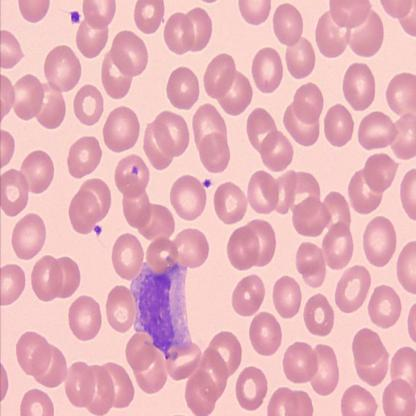Myelocyte: (133, 261, 190, 358)
